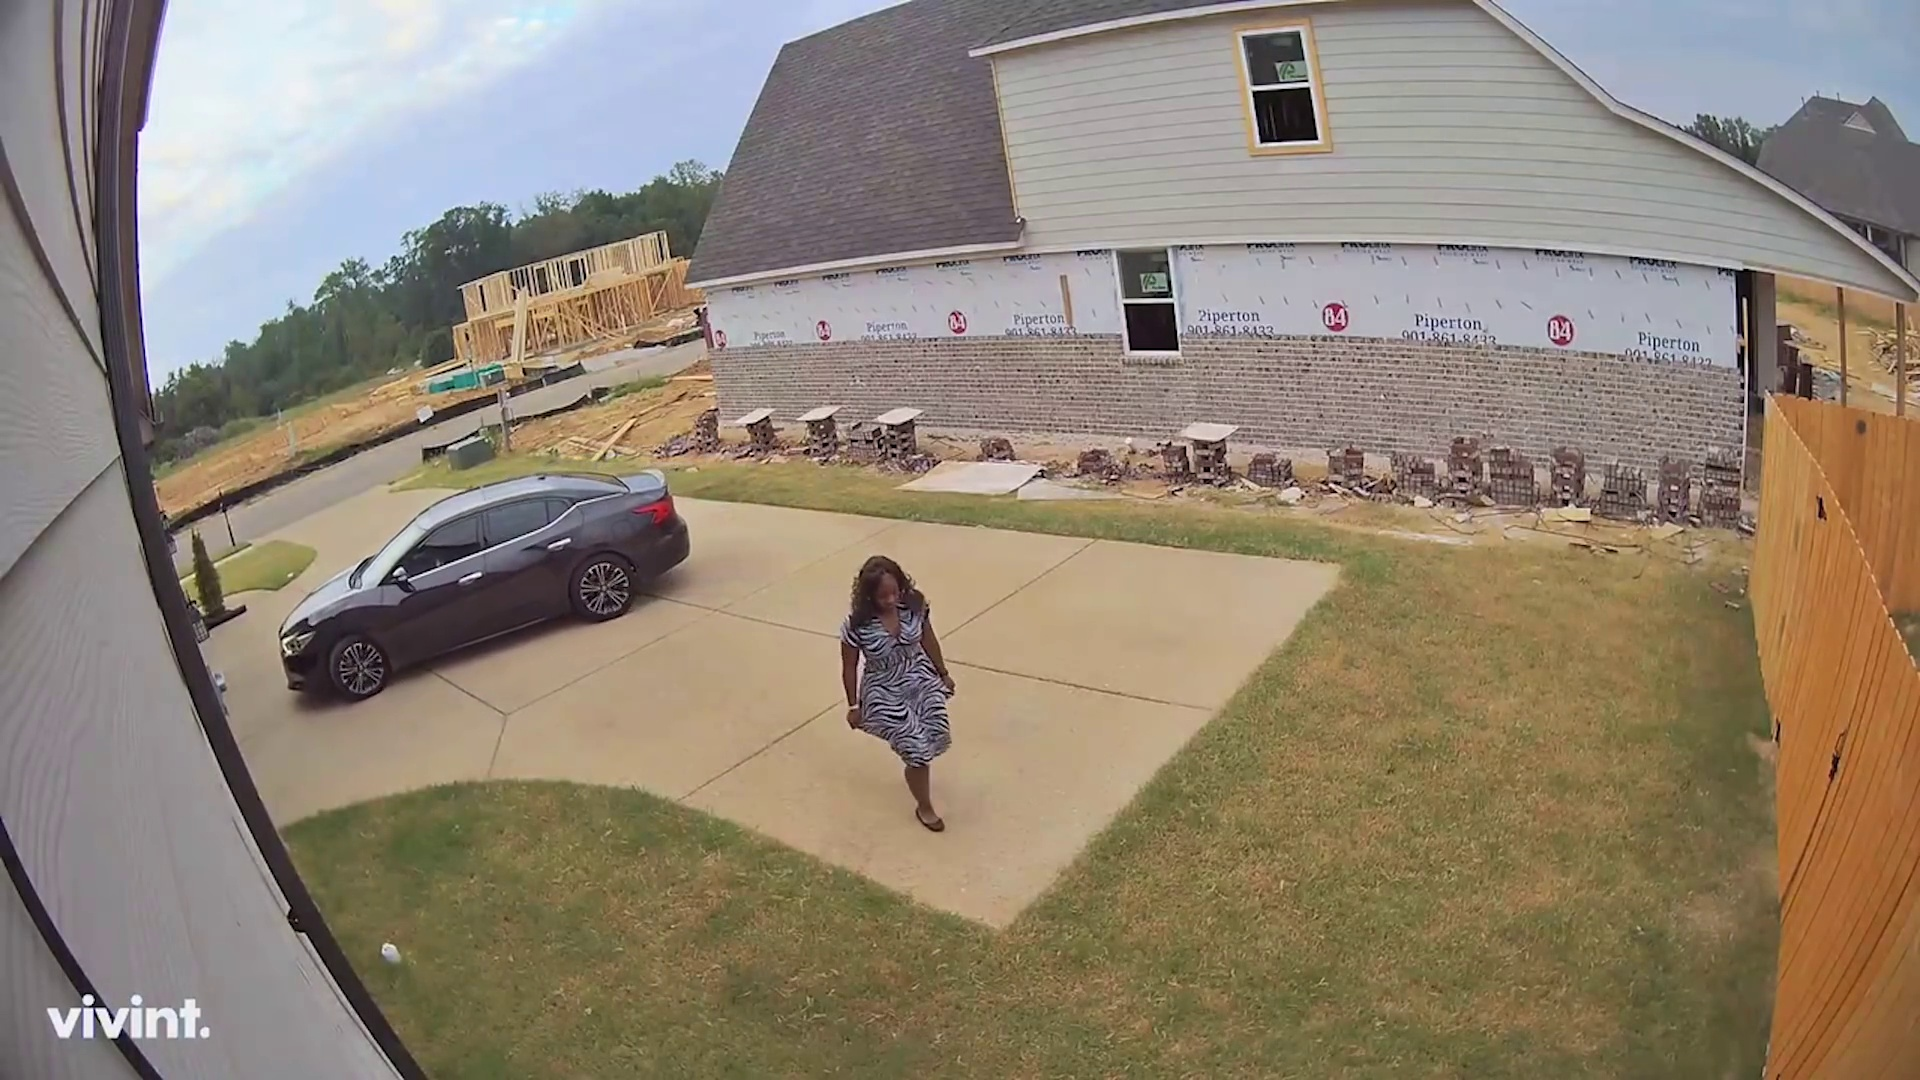face: (869, 579, 905, 615)
